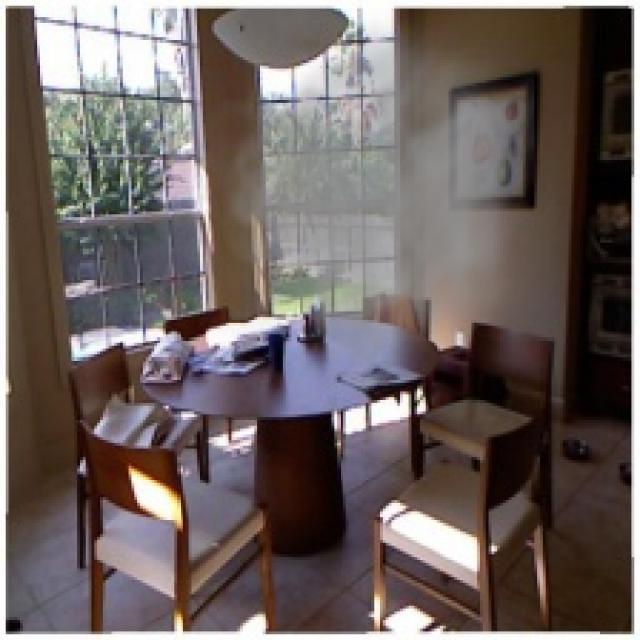Smoke: (188, 6, 534, 383)
